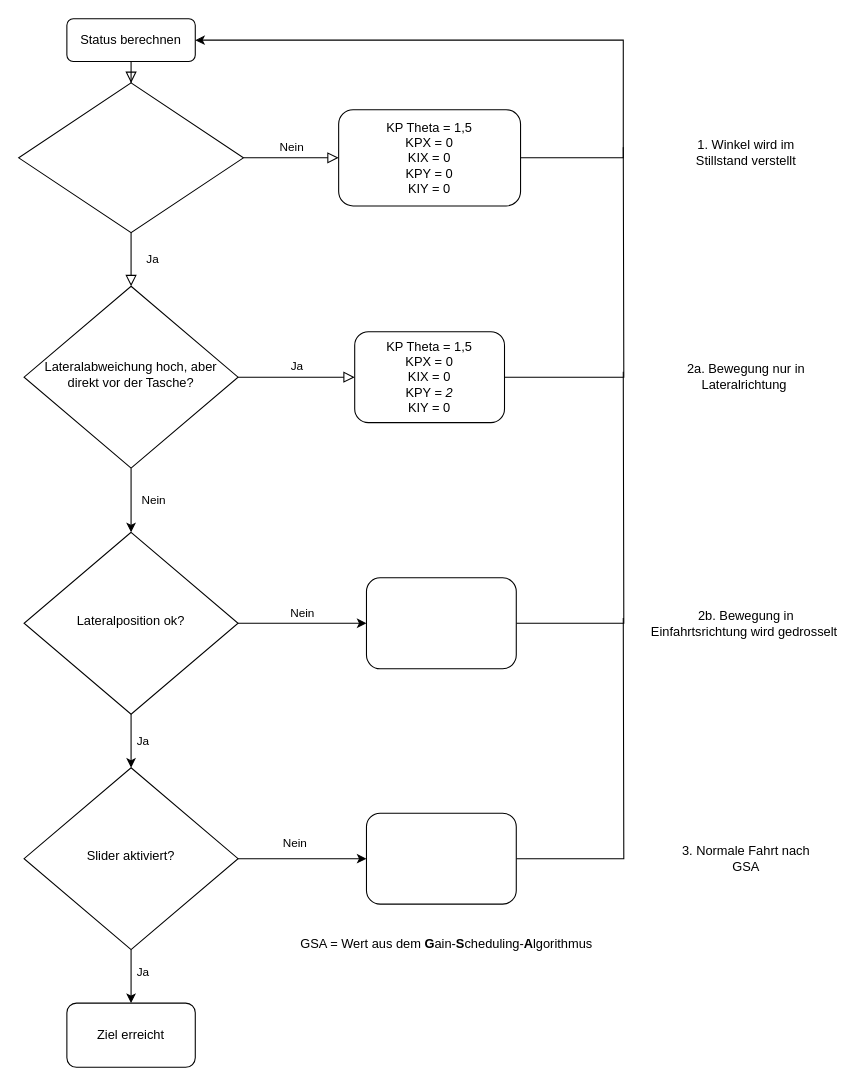
The diagram is 861 pixels wide and 1086 high, and some of its shapes have lost their labels. The shapes that lost their labels are listed below. From the top down, each one's centre as x and y in pixels, then its label:
At [130,157]: "Winkel ok?".
At [440,623]: "KP Theta = 1,5 KPX = 0,2 x GSA KIX = 0,2 x GSA KPY = 2 KIY = 0".
At [440,858]: "KP Theta = 1,5 KPX = GSA KIX = GSA KPY = 2 KIY = 0".
